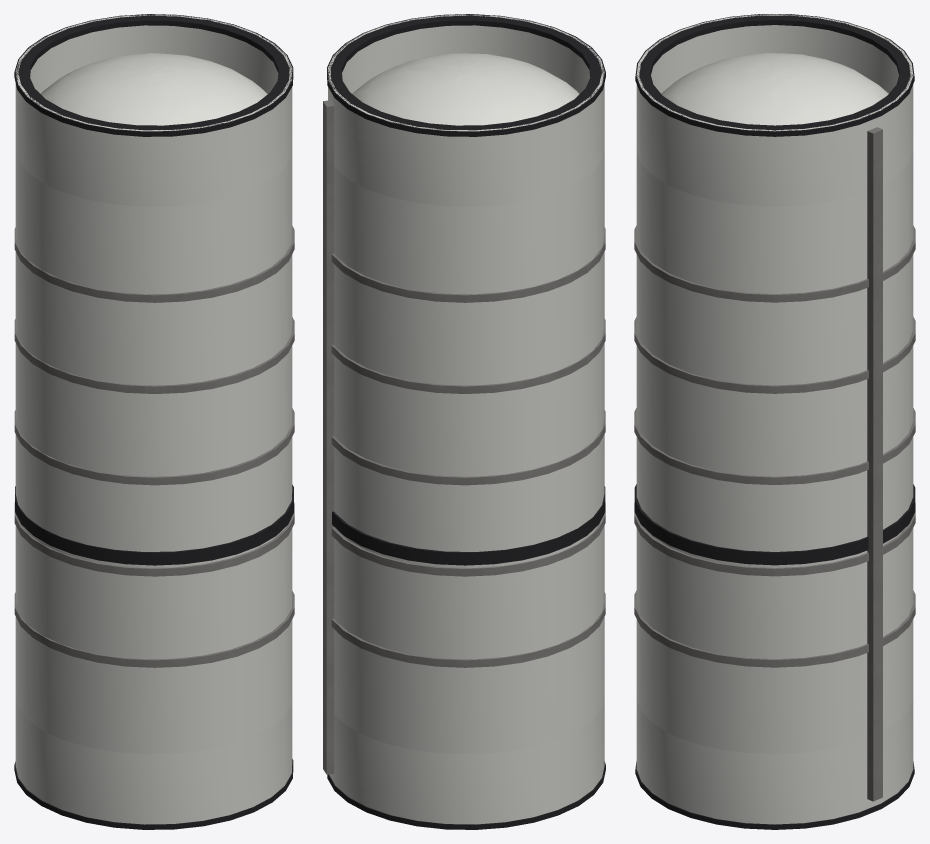
Rendered from tank00_kerolox_l.glb.
The picture shows the model from 3 angles, left to right: view 1: azimuth 30°, elevation 25°; view 2: azimuth 150°, elevation 25°; view 3: azimuth 270°, elevation 25°; orthographic projection.
Parts seen in each view (by area): view 1: tank, skirts, ring_frames, stack_flanges, bulkhead_band; view 2: tank, skirts, ring_frames, stack_flanges, raceway, bulkhead_band; view 3: tank, skirts, ring_frames, raceway, stack_flanges, bulkhead_band.
Boxes of the visible parts, x1,y1,x2,y2 form: tank: (15,53,292,754); skirts: (15,14,292,824); ring_frames: (14,226,294,667); stack_flanges: (14,14,293,829); bulkhead_band: (15,484,293,565); tank: (334,53,604,754); skirts: (328,14,604,824); ring_frames: (331,227,605,667); stack_flanges: (327,14,605,829); raceway: (323,100,334,774); bulkhead_band: (332,486,605,565); tank: (636,53,913,754); skirts: (636,14,913,824); ring_frames: (634,225,915,667); raceway: (867,127,882,801); stack_flanges: (635,14,914,829); bulkhead_band: (634,484,915,565).
Size of the model in its own units: 3.81 by 10.43 by 3.81.
Materials: 3 (1 with a texture image).
